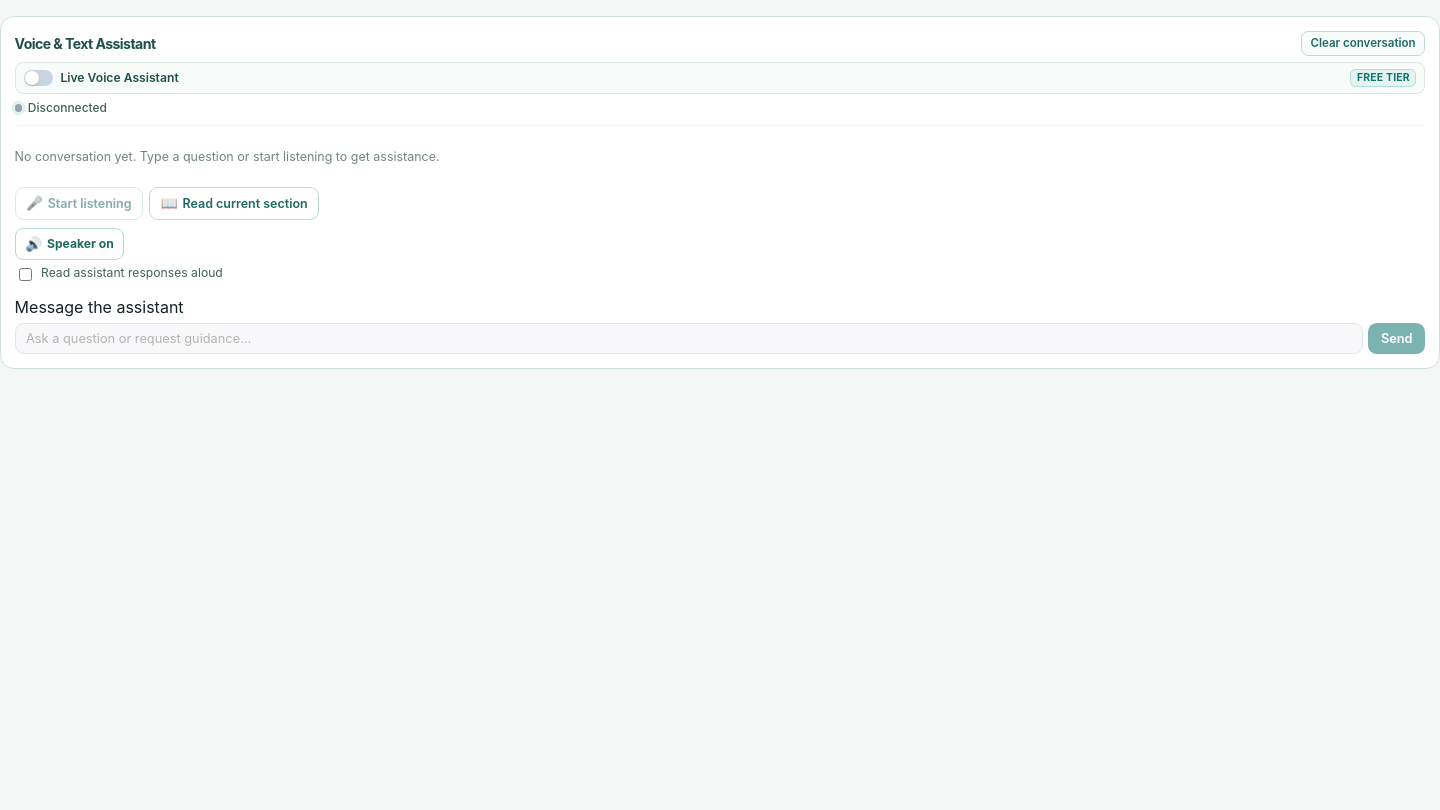
Test: Phase 8 companion PIN prompt › shows an accessible PIN dialog only after Live is turned from off to on
Check: the dialog "enable live" is not shown
What coordinates should you click on to do the following:
click the switch labelled "Live Voice Assistant"
I would click on:
 (101, 78)
Its box is [24, 70, 179, 86].
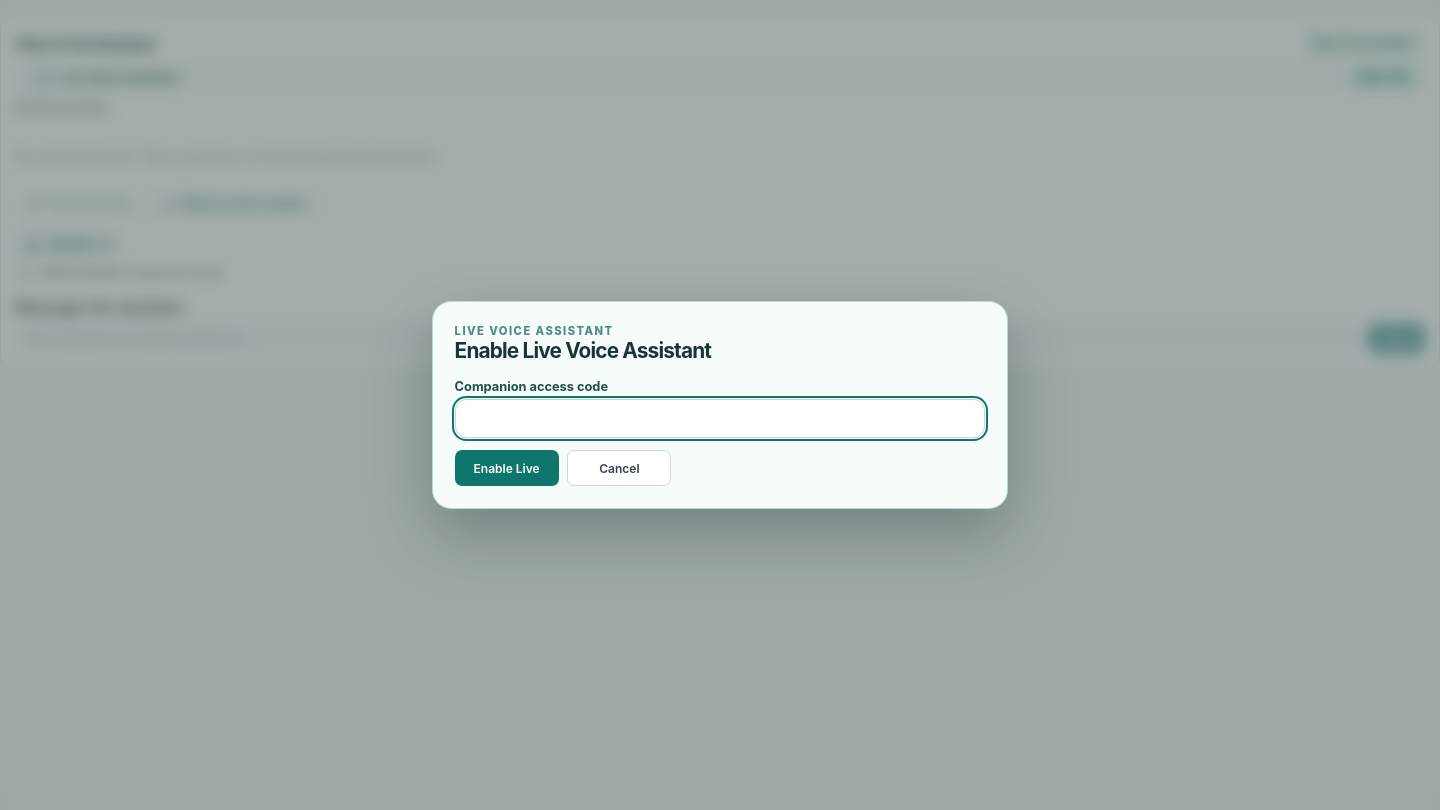
Check: the dialog "Enable Live Voice Assistant" is shown, box [432, 301, 1008, 509]
